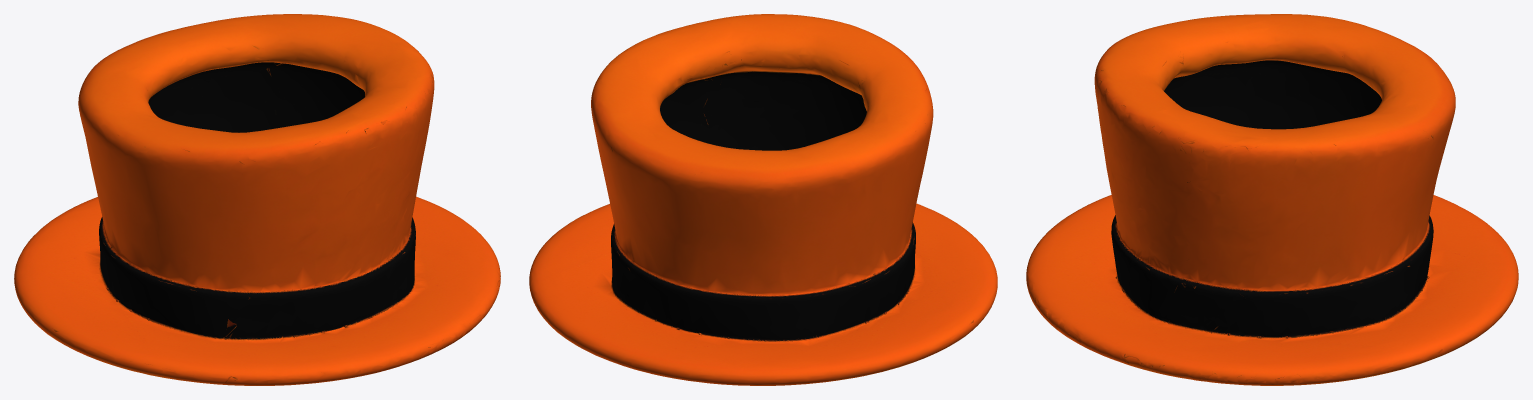
The model's file is cartola.glb.
The picture shows the model from 3 angles, left to right: view 1: azimuth 30°, elevation 25°; view 2: azimuth 150°, elevation 25°; view 3: azimuth 270°, elevation 25°; orthographic projection. The views are drawn at different scales.
Parts seen in each view (by area): view 1: Mesh_0; view 2: Mesh_0; view 3: Mesh_0.
Boxes of the visible parts, x1,y1,x2,y2 form: Mesh_0: (14, 14, 500, 385); Mesh_0: (529, 14, 997, 385); Mesh_0: (1026, 14, 1518, 385).
Size of the model in its own units: 1.91 by 0.9745 by 1.91.
Materials: 1 (1 with a texture image).
